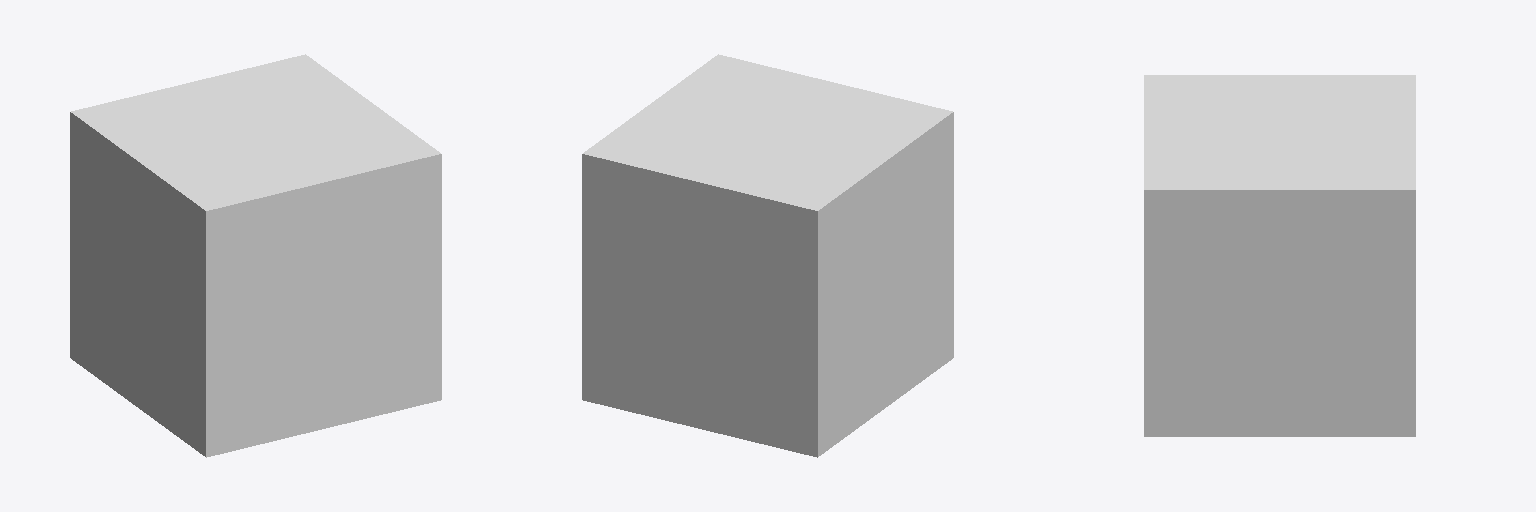
3 renders of one model, left to right at view 1: azimuth 30°, elevation 25°; view 2: azimuth 150°, elevation 25°; view 3: azimuth 270°, elevation 25°, orthographic.
Visible parts, largest first — view 1: object 1; view 2: object 1; view 3: object 1.
Boxes of the visible parts, <box> form: object 1: <box>70,54,441,457</box>; object 1: <box>582,54,953,457</box>; object 1: <box>1144,75,1415,436</box>.
Size of the model in its own units: 1 by 1 by 1.
1 materials, 1 textured.